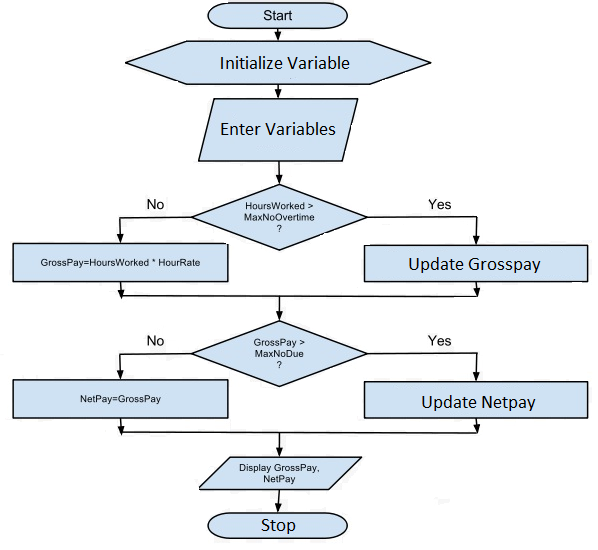arrow: (274, 279, 482, 322), (274, 415, 482, 457), (116, 416, 283, 458), (115, 280, 285, 321), (358, 349, 481, 382), (362, 213, 482, 244), (117, 351, 200, 382), (116, 215, 198, 242), (273, 158, 285, 185), (273, 487, 284, 514), (272, 82, 284, 98), (272, 26, 284, 41)
data: (196, 95, 361, 165), (197, 453, 367, 492)
decision: (191, 318, 369, 387), (190, 182, 370, 250)
process: (122, 38, 433, 86), (360, 378, 590, 422), (10, 377, 232, 422), (10, 241, 232, 285), (361, 243, 592, 284)
terminator: (206, 510, 351, 542), (205, 2, 351, 32)
text: (405, 254, 542, 275), (241, 200, 320, 235), (217, 52, 351, 72), (219, 117, 339, 138), (38, 254, 201, 269), (418, 394, 535, 412), (251, 335, 309, 370), (237, 462, 320, 483), (77, 394, 164, 405), (260, 517, 299, 536), (261, 7, 295, 23), (426, 330, 453, 349), (145, 197, 169, 214), (426, 197, 453, 212), (143, 332, 167, 347)
